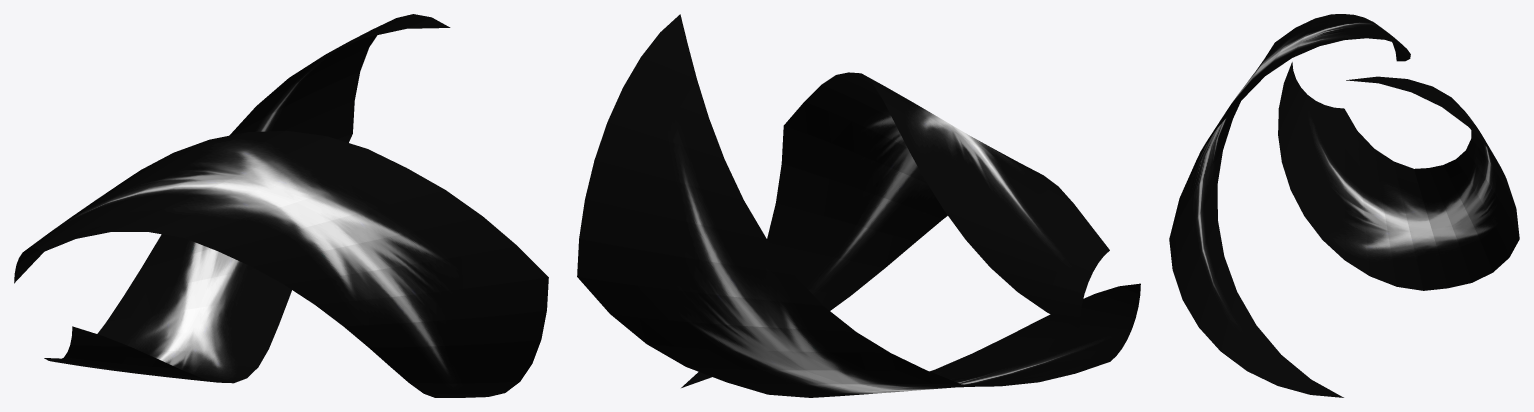
File: 0271_daishousidai.glb
3 views of the same model, side by side, from view 1: azimuth 30°, elevation 25°; view 2: azimuth 150°, elevation 25°; view 3: azimuth 270°, elevation 25° (orthographic). The views are drawn at different scales.
Size of the model in its own units: 2.2 by 1.83 by 1.83.
Materials: 1 (1 with a texture image).
